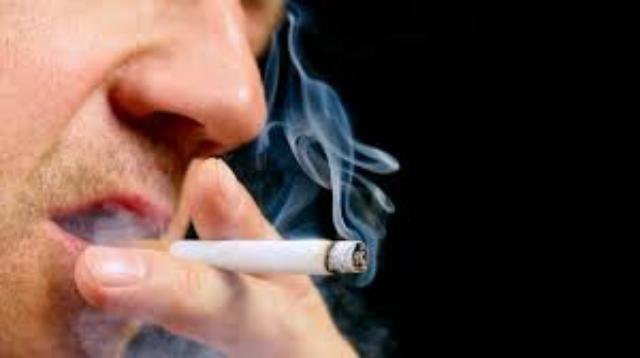Smoking: (89, 239, 369, 275)
